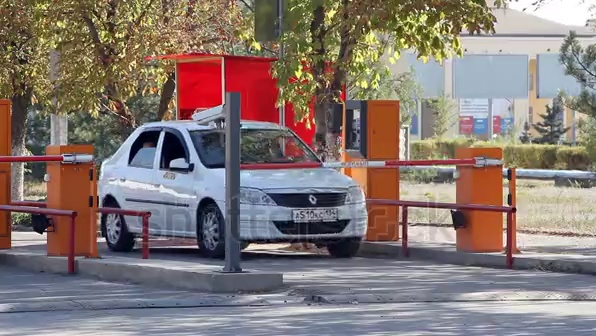licenseplate: (292, 207, 340, 221)
